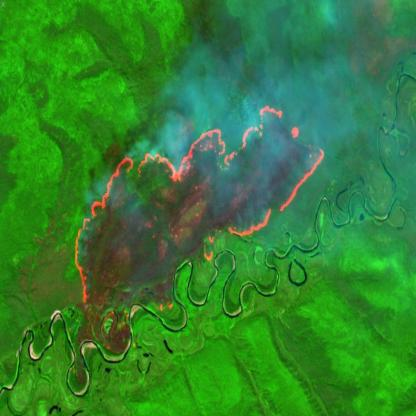fire: (72, 99, 332, 321)
